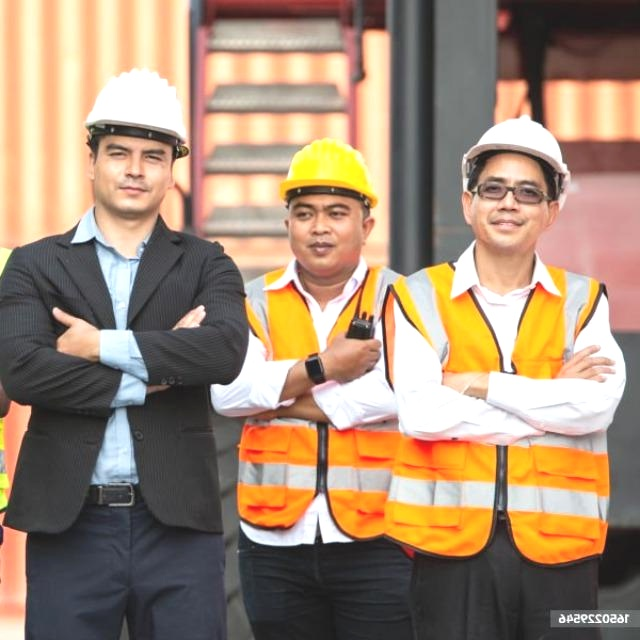Con_Casco: (82, 66, 190, 218), (461, 114, 574, 244), (280, 136, 376, 277)
Con_Chaleco: (386, 259, 613, 556), (238, 267, 416, 540)
Sin_Chaleco: (0, 222, 238, 515)
